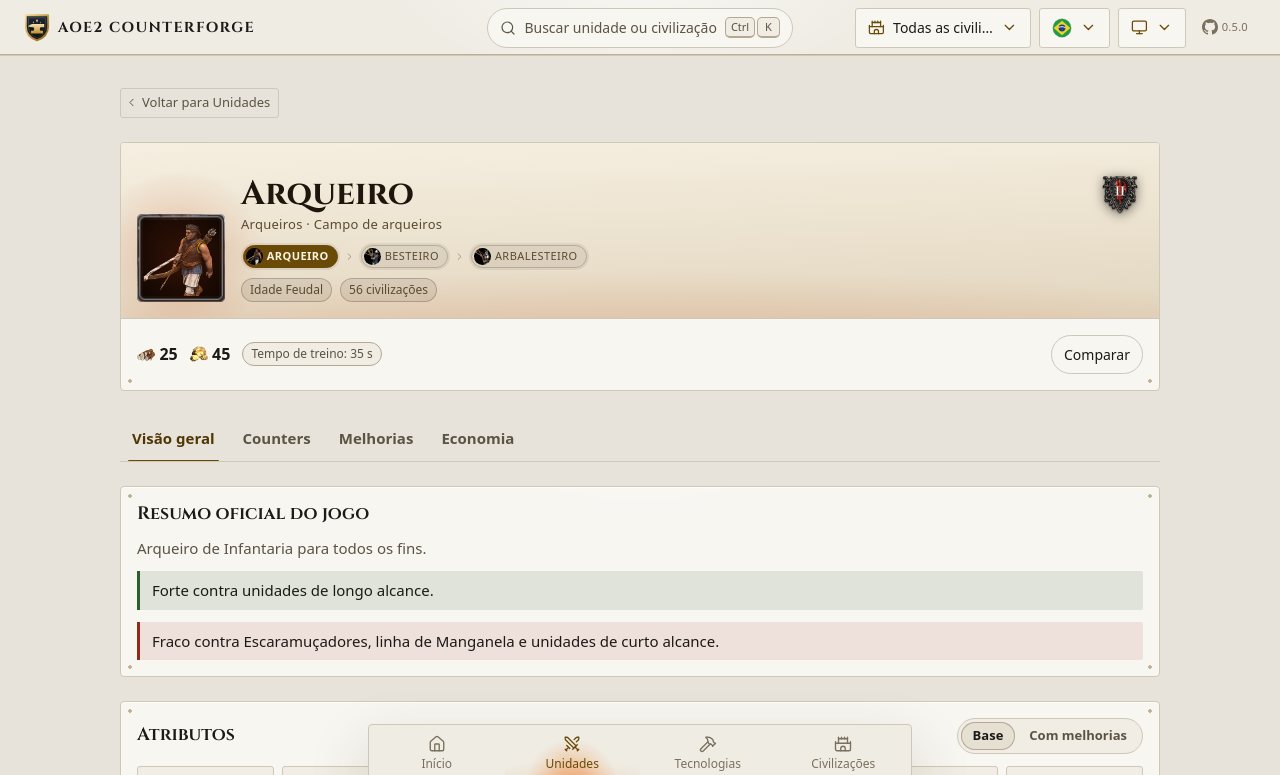
App › shows the villager plan for a unit
This screenshot has width=1280, height=775.
Click the tab "Economia". click: [478, 438]
box: [429,414,526,461]
(page scrolled)
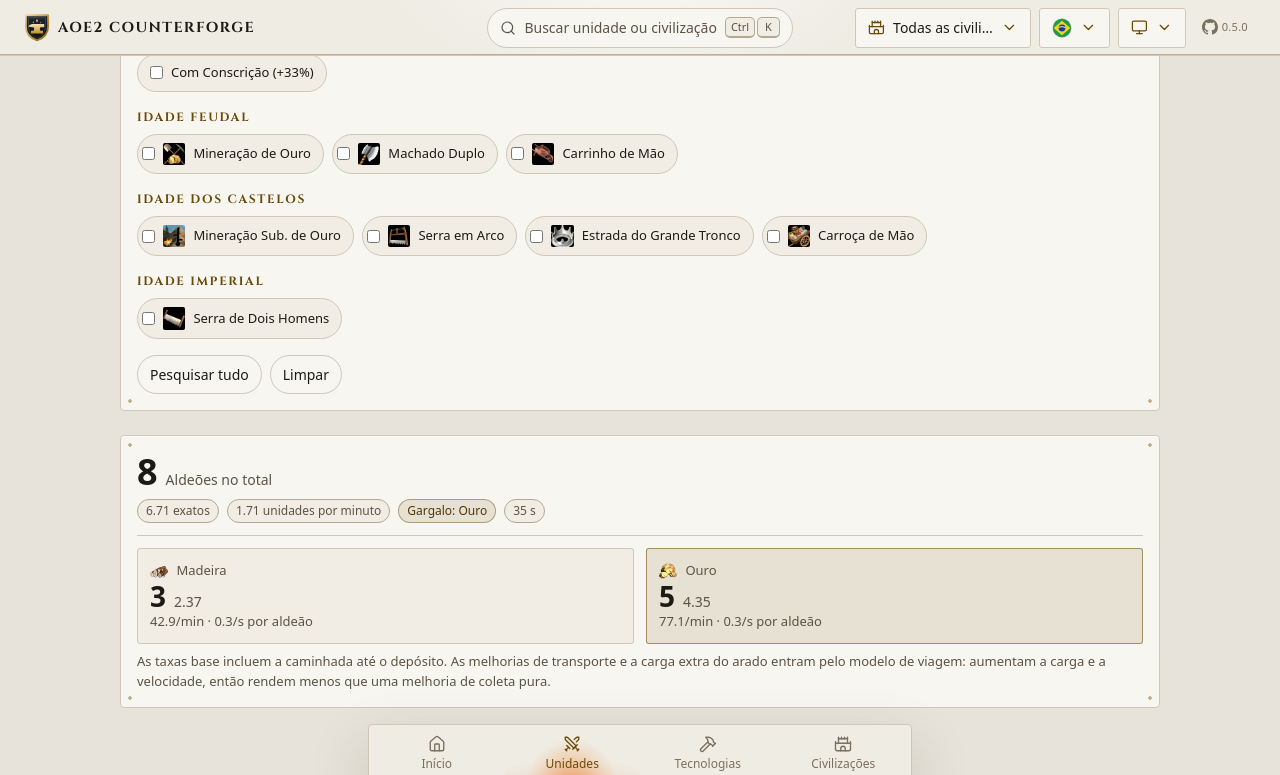
Expected: the text "Aldeões no total" is shown, [166,472,272,487]
